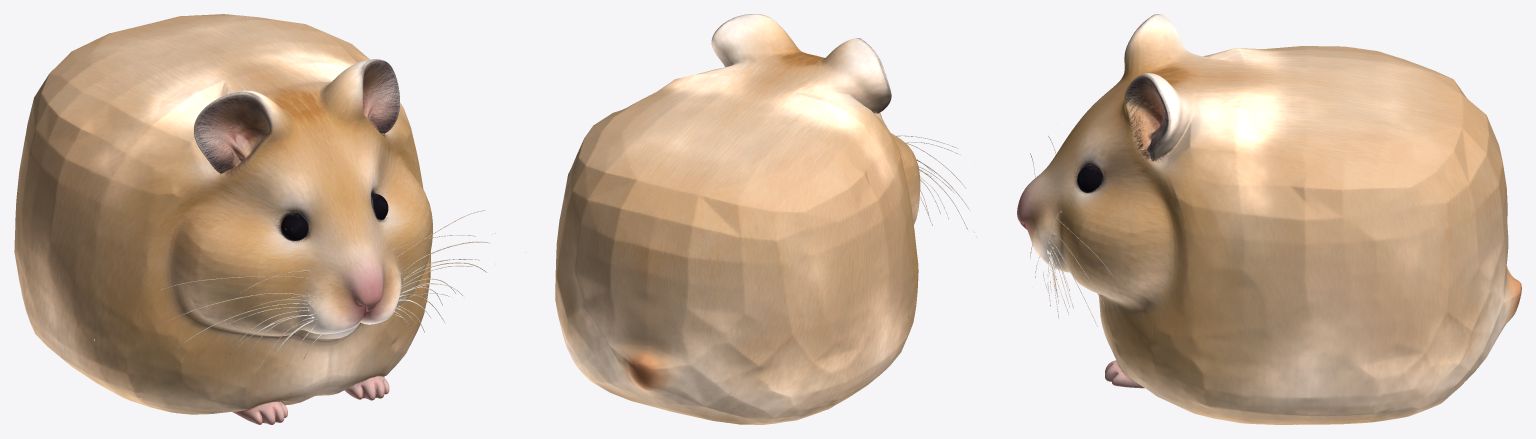
File: golden_ham.glb
3 renders of one model, left to right at view 1: azimuth 30°, elevation 25°; view 2: azimuth 150°, elevation 25°; view 3: azimuth 270°, elevation 25°, orthographic. The views are drawn at different scales.
Visible parts, largest first — view 1: Mesh_0; view 2: Mesh_0; view 3: Mesh_0.
Boxes of the visible parts, bbox=[...] form: Mesh_0: bbox=[14, 14, 495, 424]; Mesh_0: bbox=[555, 14, 976, 424]; Mesh_0: bbox=[1017, 14, 1521, 424].
Bounding box in the file's own units: 0.1133 × 0.1 × 0.1448.
Materials: 1 (1 with a texture image).
